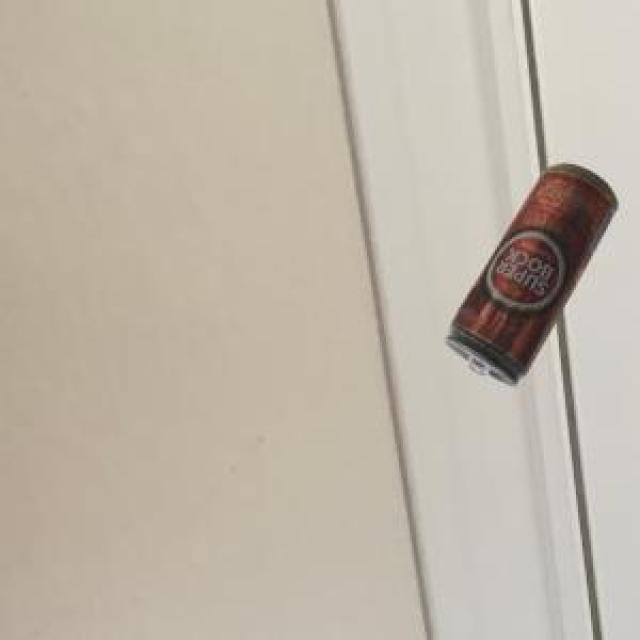logam: (443, 161, 613, 383)
